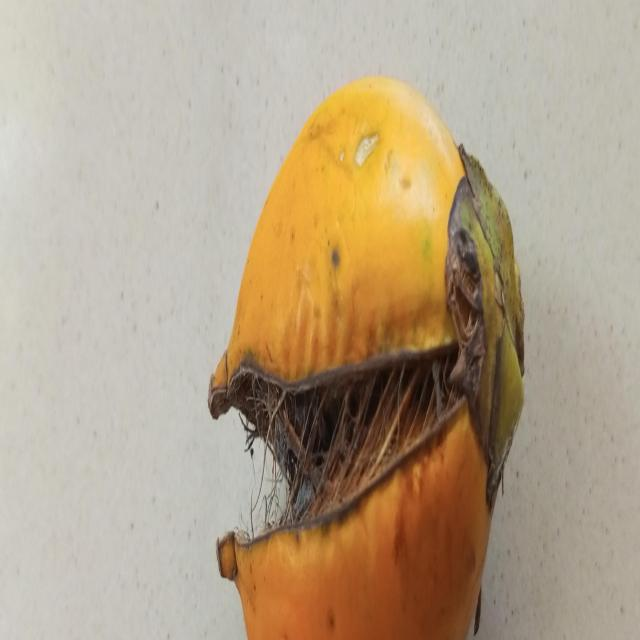damaged: (208, 77, 524, 640)
